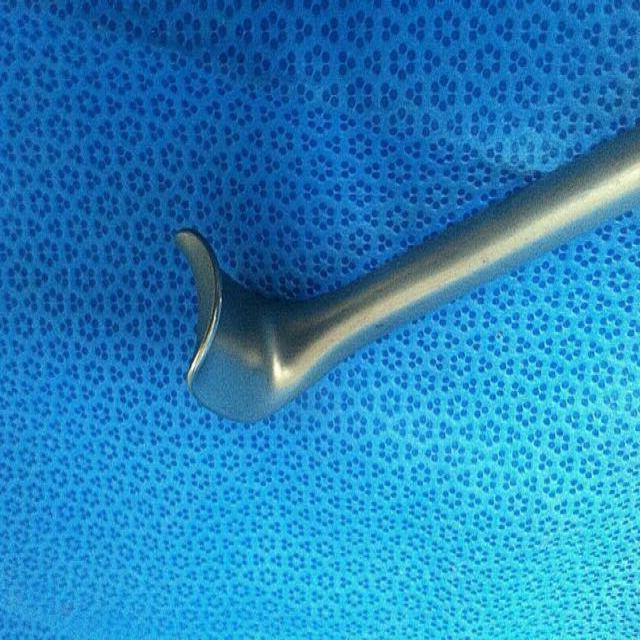Richardson: (167, 116, 639, 428)
